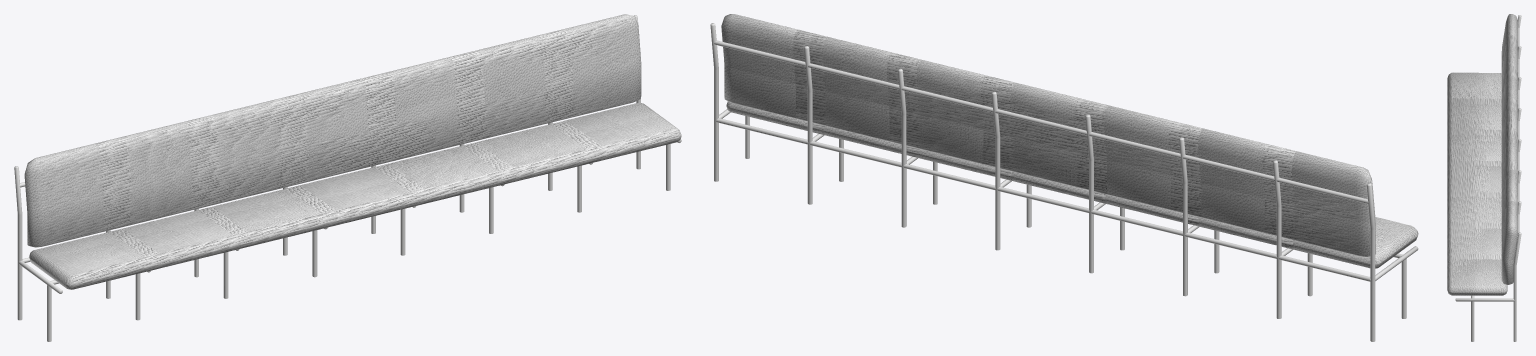
The model's file is Seats01.FBX.
3 renders of one model, left to right at view 1: azimuth 30°, elevation 25°; view 2: azimuth 150°, elevation 25°; view 3: azimuth 270°, elevation 25°, orthographic. The views are drawn at different scales.
Parts seen in each view (by area): view 1: PhySeats01, ChamferBox002, Cylinder004; view 2: ChamferBox002, PhySeats01, Cylinder004; view 3: PhySeats01, ChamferBox002, Cylinder004.
Part boxes in pixels (left/top/right/bottom): PhySeats01: left=25, top=14, right=681, bottom=289; ChamferBox002: left=24, top=14, right=681, bottom=288; Cylinder004: left=14, top=15, right=681, bottom=341; ChamferBox002: left=721, top=14, right=1416, bottom=268; PhySeats01: left=722, top=14, right=1418, bottom=267; Cylinder004: left=710, top=23, right=1418, bottom=341; PhySeats01: left=1447, top=14, right=1518, bottom=295; ChamferBox002: left=1448, top=14, right=1518, bottom=295; Cylinder004: left=1455, top=15, right=1521, bottom=341.
Size of the model in its own units: 97.09 by 23.71 by 13.9.
